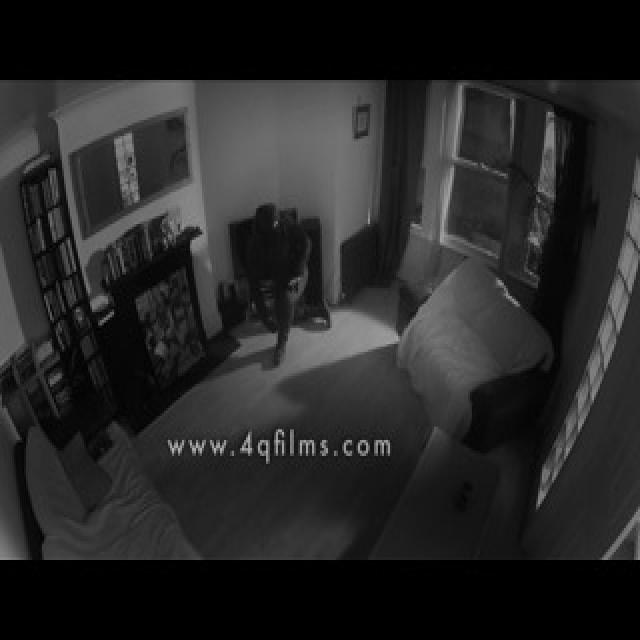thief: (244, 198, 332, 344)
